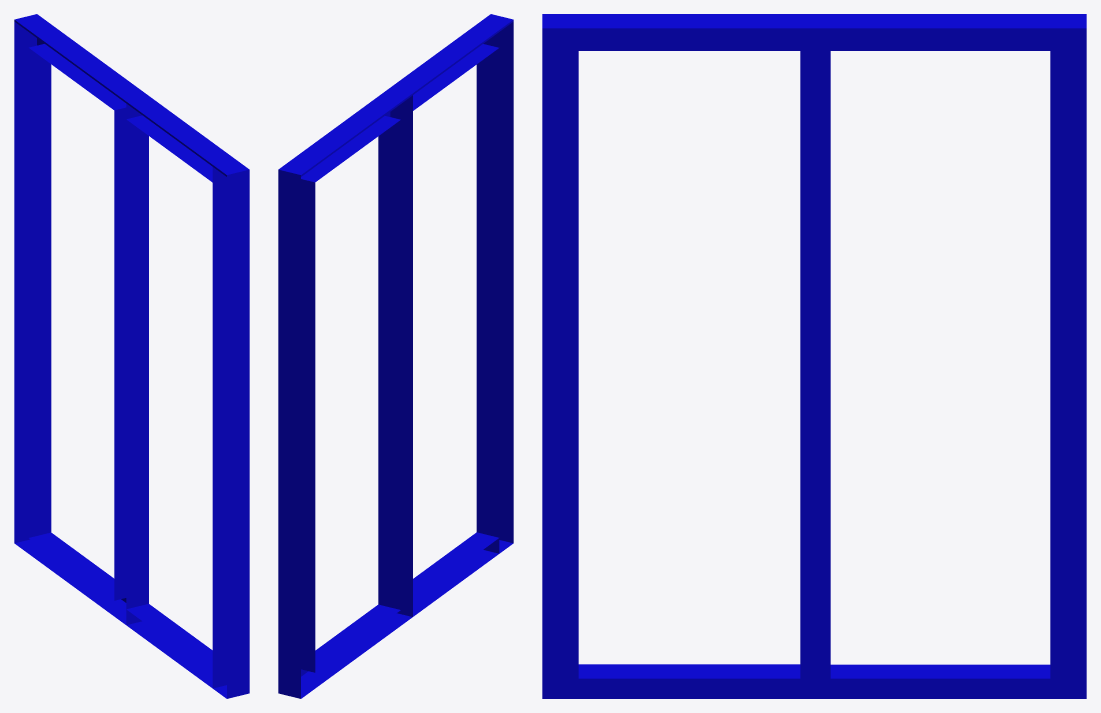
Rendered from Talleres (1).fbx.
3 renders of one model, left to right at view 1: azimuth 30°, elevation 25°; view 2: azimuth 150°, elevation 25°; view 3: azimuth 270°, elevation 25°, orthographic. The views are drawn at different scales.
Parts seen in each view (by area): view 1: Ventana vertical; view 2: Ventana vertical; view 3: Ventana vertical.
Boxes of the visible parts, <box> form: Ventana vertical: <box>14,14,249,698</box>; Ventana vertical: <box>278,14,513,698</box>; Ventana vertical: <box>542,14,1086,698</box>.
Size of the model in its own units: 25.23 by 555 by 408.
